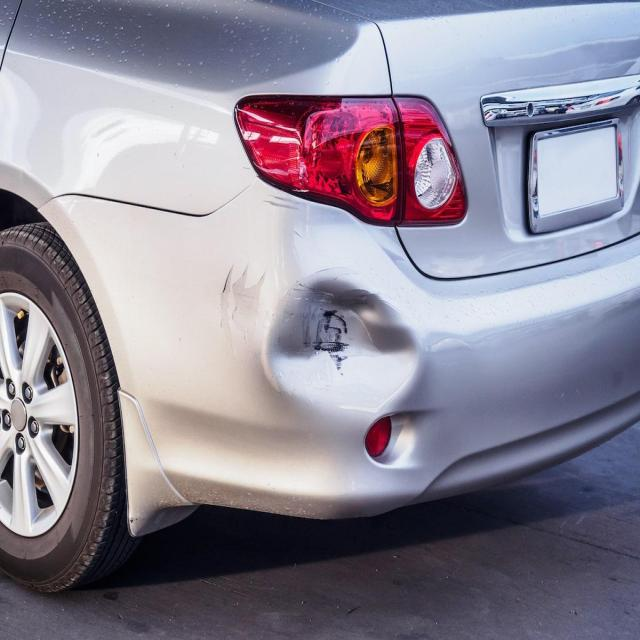dent: (260, 268, 430, 420)
